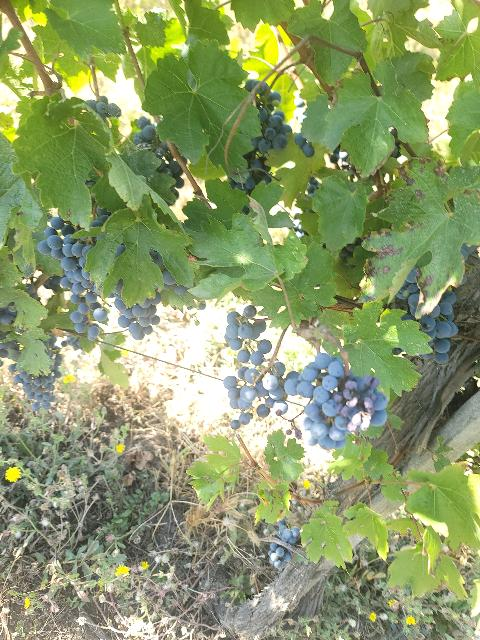grapes: (284, 352, 389, 450), (38, 216, 108, 341), (230, 79, 291, 195), (224, 361, 288, 430), (9, 354, 63, 411), (225, 305, 272, 366)
